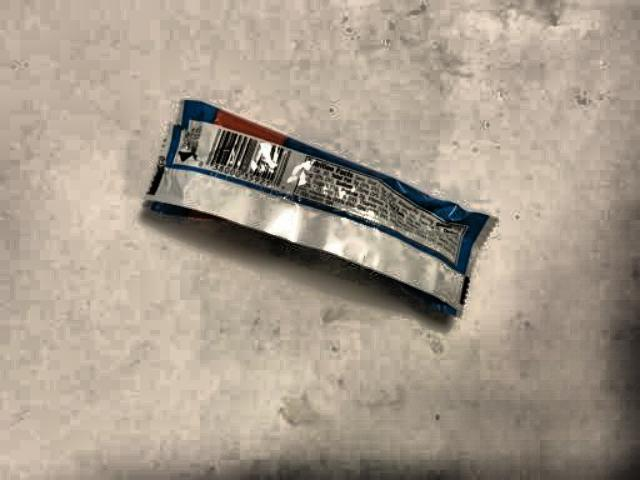Plastic: (127, 83, 506, 335)
